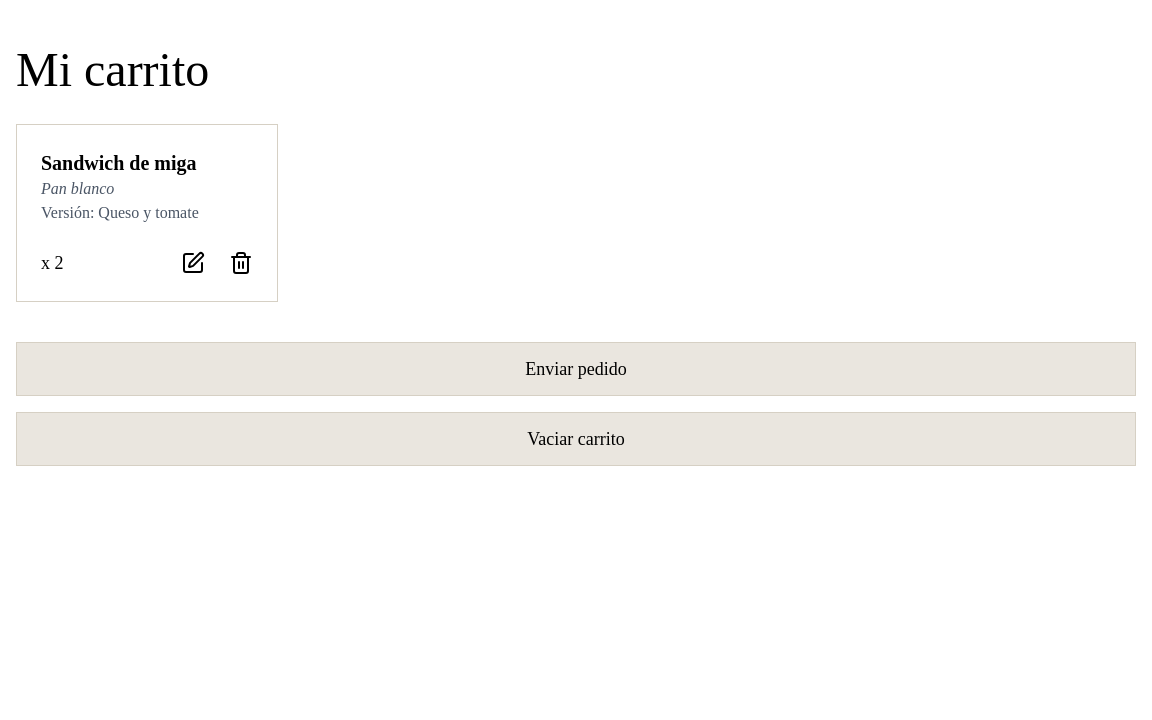
it: Cart › displays the clear cart confirmation modal
What coordinates should you click on to do the following:
click the button "Vaciar carrito"
I would click on:
 (576, 439)
Its box is [16, 412, 1136, 466].
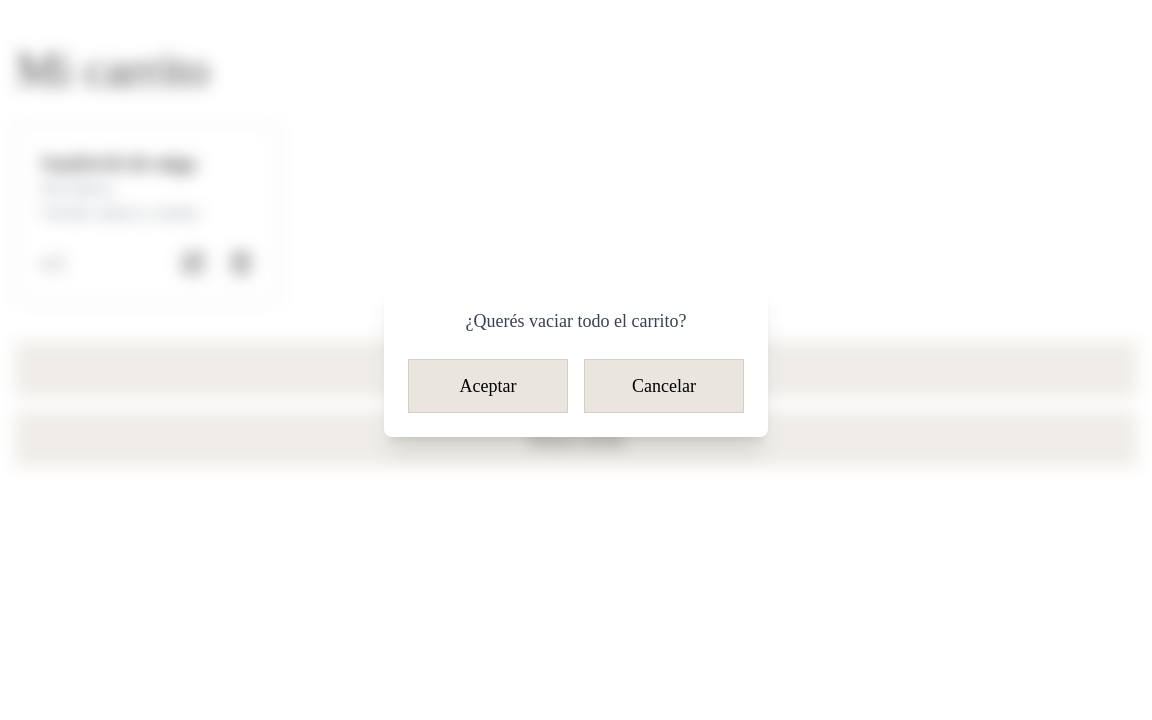
Expected: the text "¿Querés vaciar todo el carrito?" is shown, [466, 311, 686, 331]
